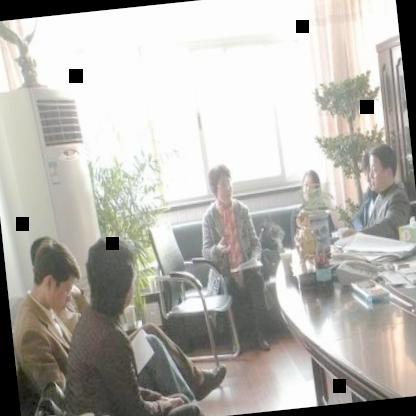head: (80, 232, 144, 330), (29, 230, 84, 318), (364, 136, 402, 195), (204, 157, 236, 210), (298, 164, 322, 208)
